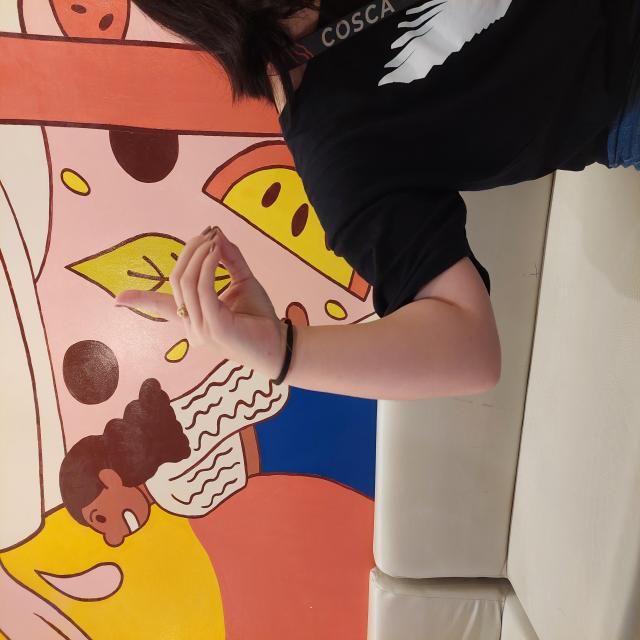D: (268, 113, 417, 284)
